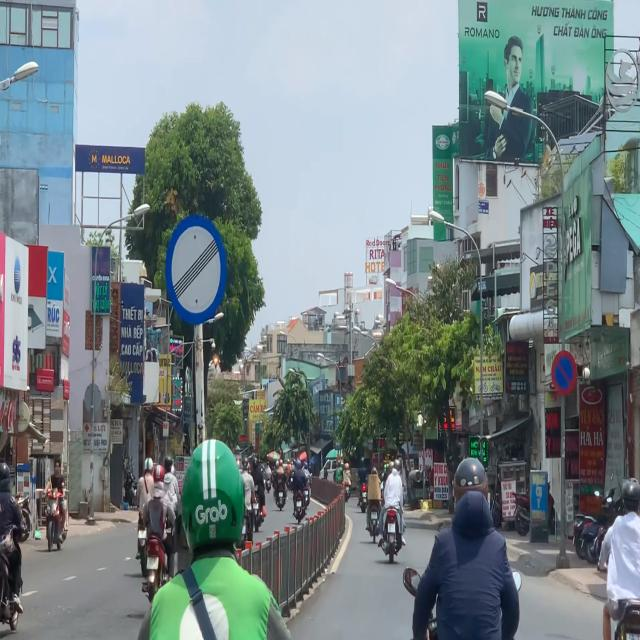Cam do: (552, 351, 577, 395)
Het tat ca lenh cam: (165, 214, 226, 325)
